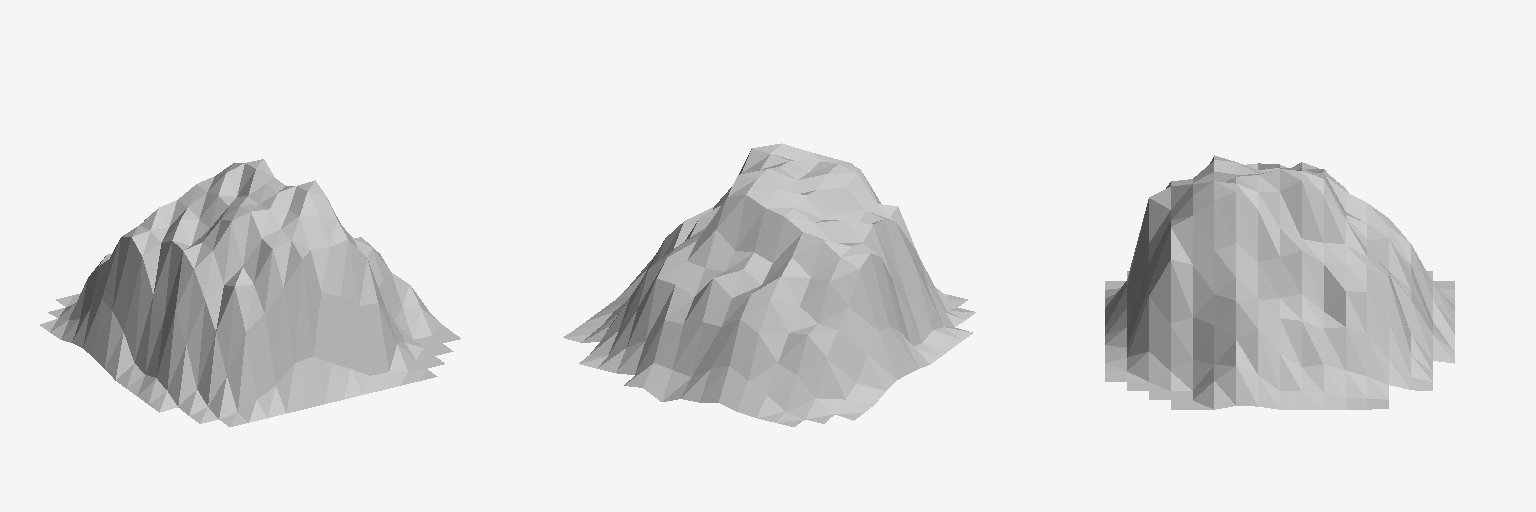
File: tree_6.obj
3 renders of one model, left to right at view 1: azimuth 30°, elevation 25°; view 2: azimuth 150°, elevation 25°; view 3: azimuth 270°, elevation 25°, orthographic.
Parts seen in each view (by area): view 1: tree_6_minus_dtm.001; view 2: tree_6_minus_dtm.001; view 3: tree_6_minus_dtm.001.
Boxes of the visible parts, x1,y1,x2,y2 form: tree_6_minus_dtm.001: [40, 159, 460, 426]; tree_6_minus_dtm.001: [563, 143, 975, 426]; tree_6_minus_dtm.001: [1105, 155, 1454, 409].
Size of the model in its own units: 16 by 8.8 by 16.